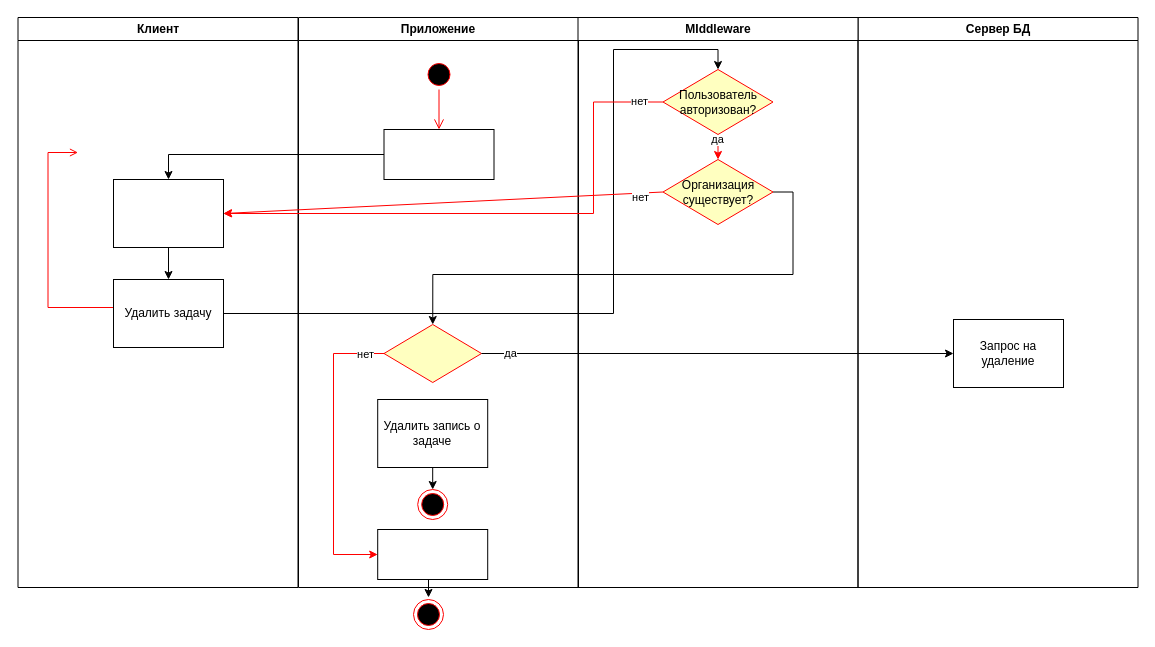
This 1155x647 diagram has some shape labels left out. Here are the shapes that lost their labels. From the top down, the centre of each, then its label:
[438,154]: Представление удаления задачи
[168,213]: Открыть модальное окно задачи
[432,353]: БД доступна?
[432,554]: Отрисовать ошибку
